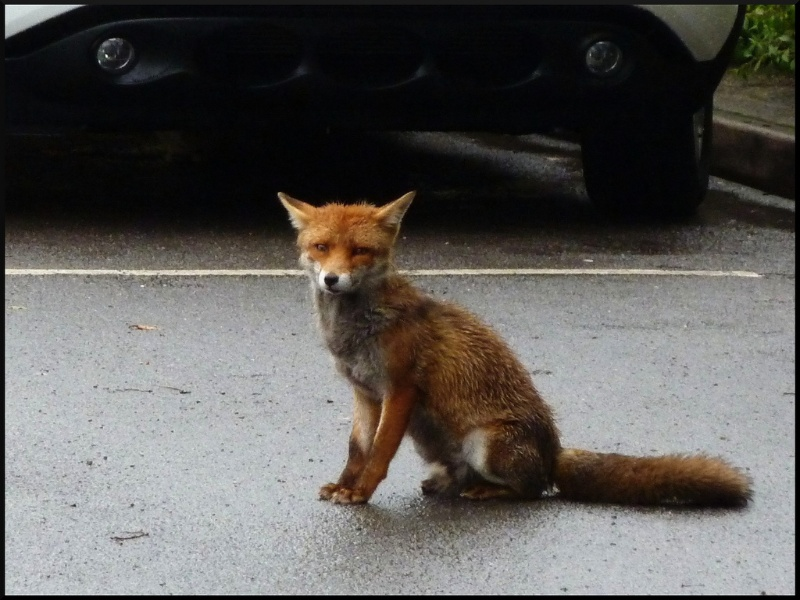fox: (274, 187, 759, 518)
